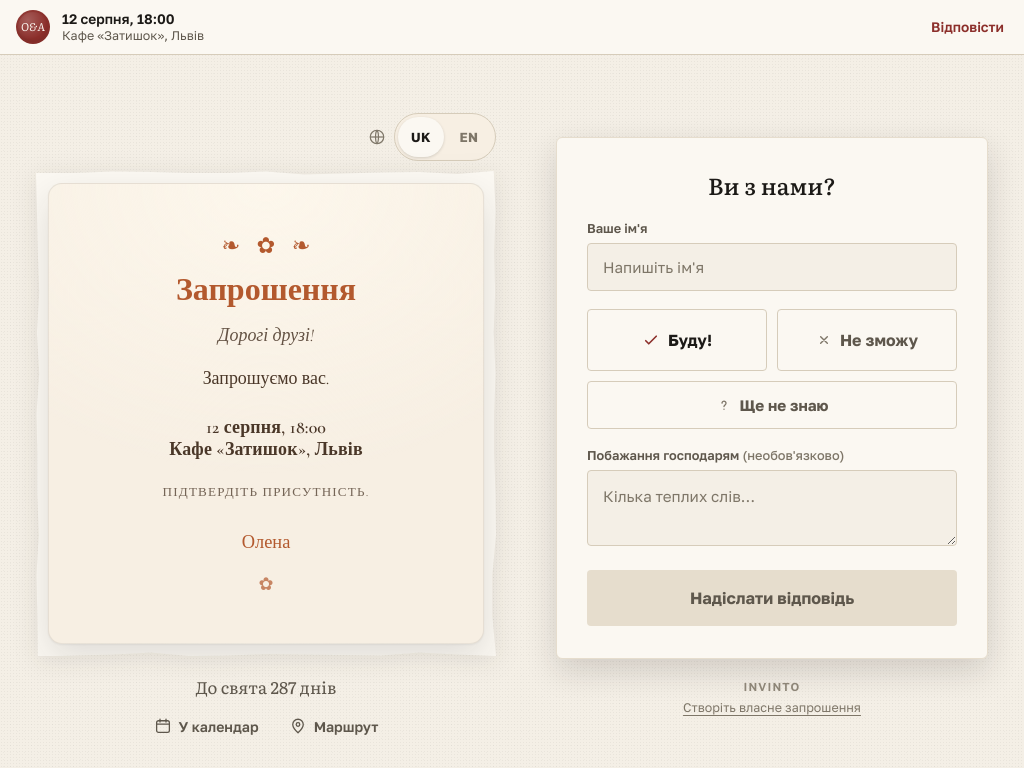
Test: the reply card (adr-019 §5.3) › seals a yes with a ✓, the party size, and a way to pass the link on
The image size is (1024, 768).
Type "Іван" into the field with placeholder "Напишіть ім'я". click: (772, 267)
box: top-left (587, 243), bottom-right (957, 291)
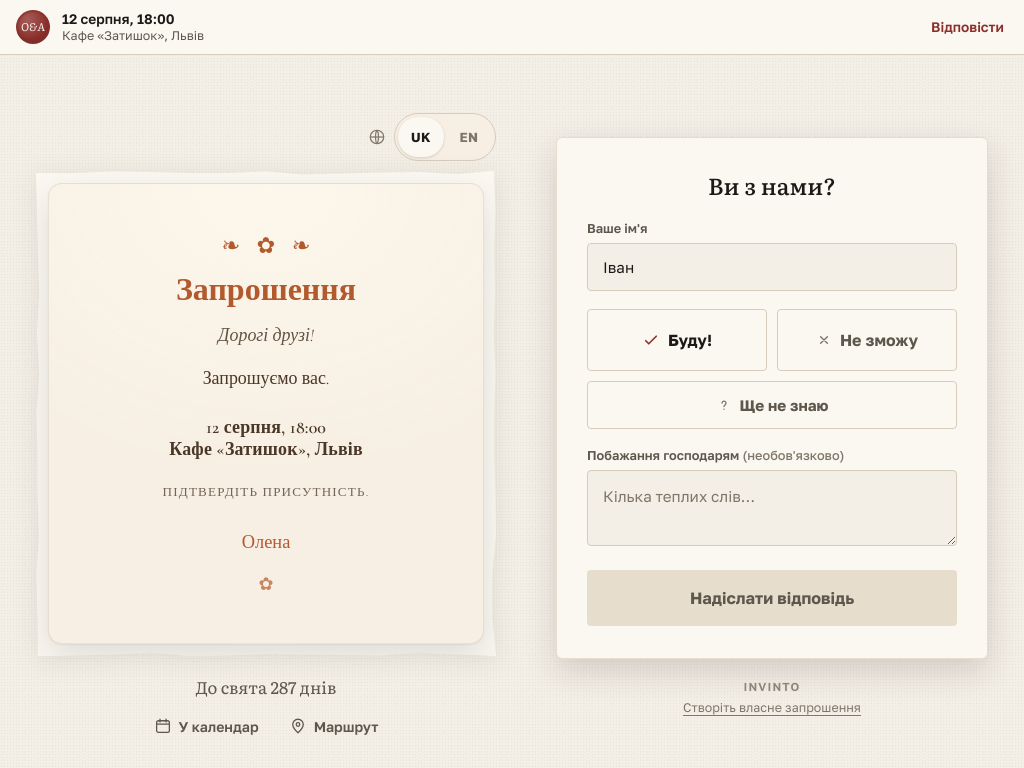
Click the radio button labelled "Буду!". click: (677, 340)
box: top-left (587, 309), bottom-right (767, 371)
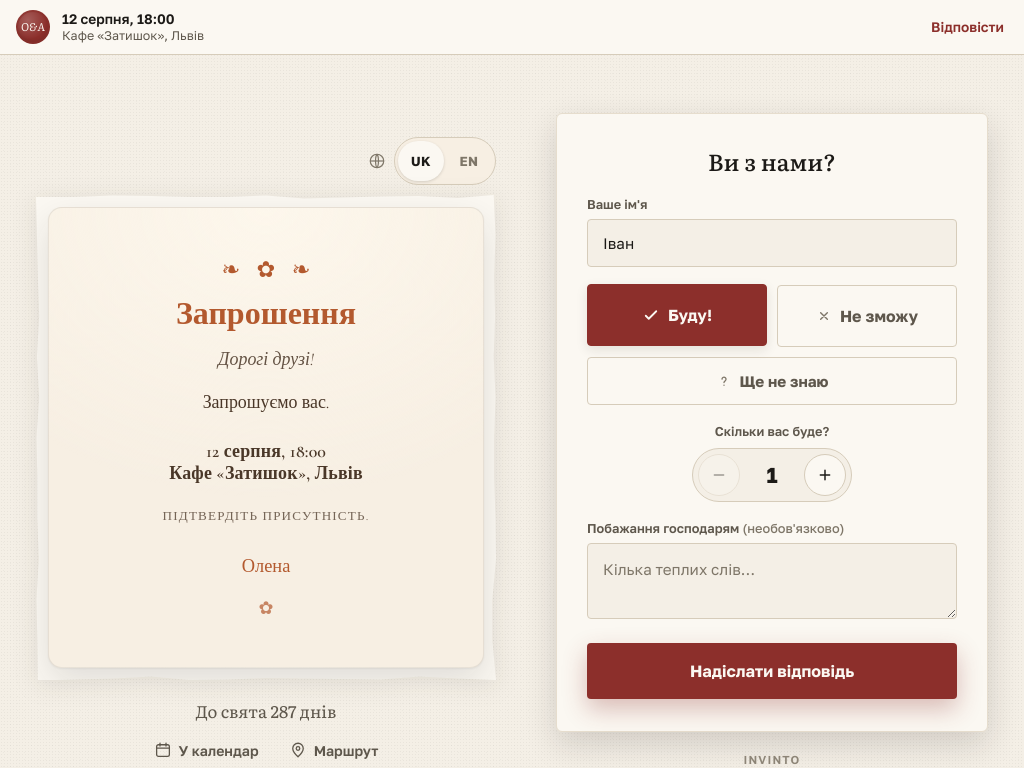
Click the button "Надіслати відповідь". click: (772, 671)
box: top-left (587, 643), bottom-right (957, 699)
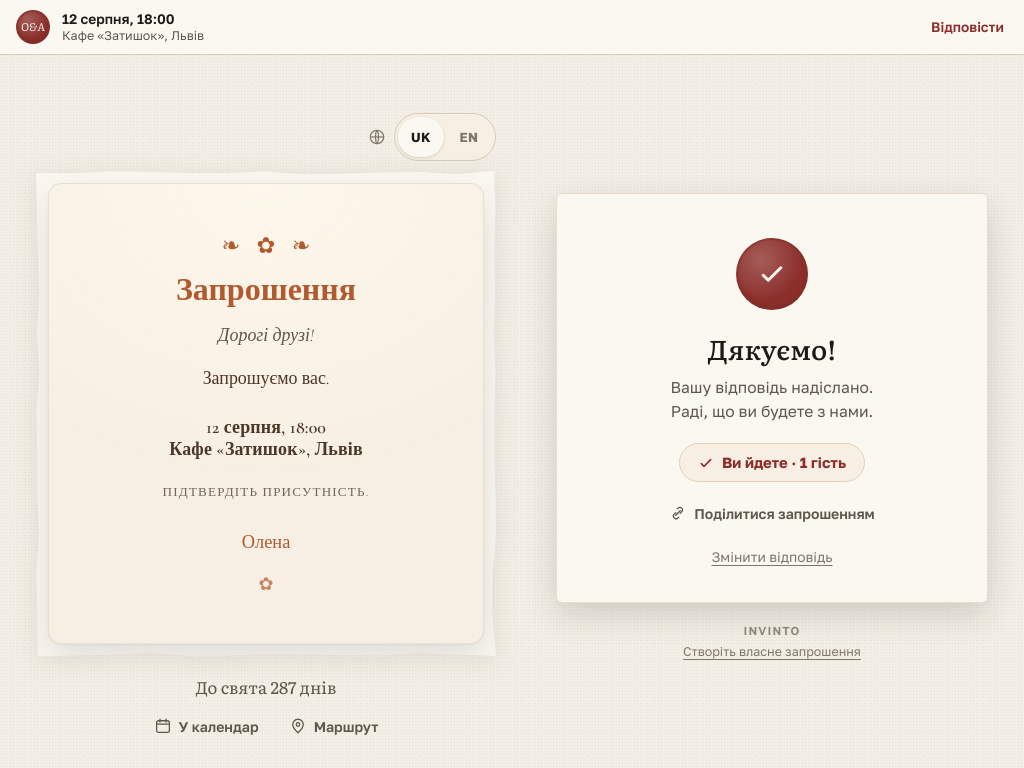
Check: the heading "Дякуємо!" is shown, box top-left (708, 328), bottom-right (836, 368)
Check: the element with class "gr-thanks-seal" is shown, box top-left (736, 238), bottom-right (808, 310)
Check: the text "Ви йдете · 1 гість" is shown, box top-left (679, 443), bottom-right (865, 482)
